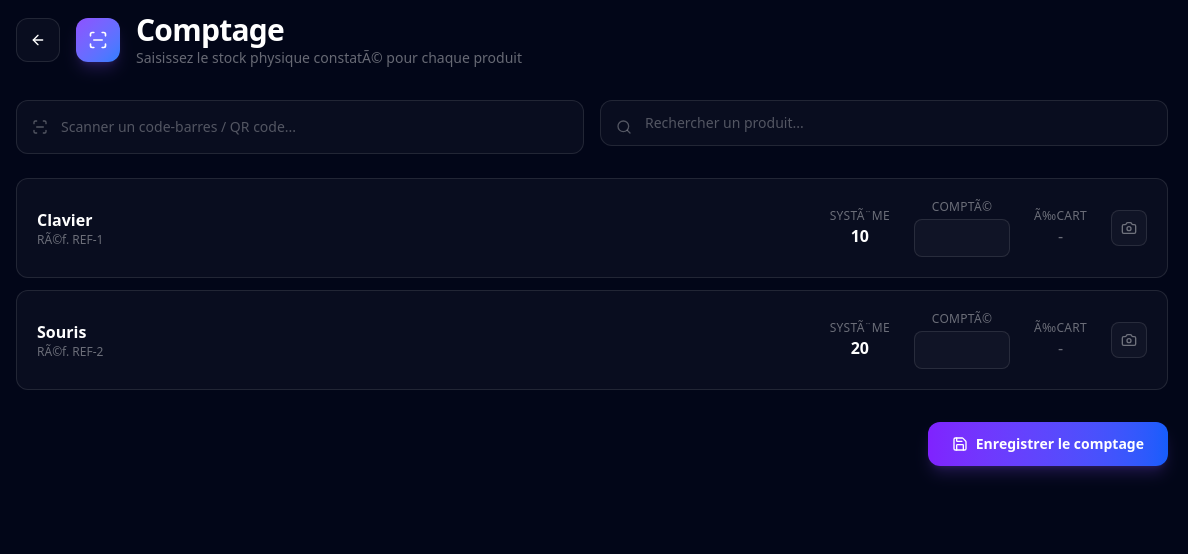
it: Comptage › calcule et affiche l ecart quand une quantite comptee est saisie
Expected: the text "Clavier" is shown, [37, 209, 92, 231]
Type "12" into the number field in the row of "10".
click(962, 238); type("12")  # box [914, 219, 1010, 257]
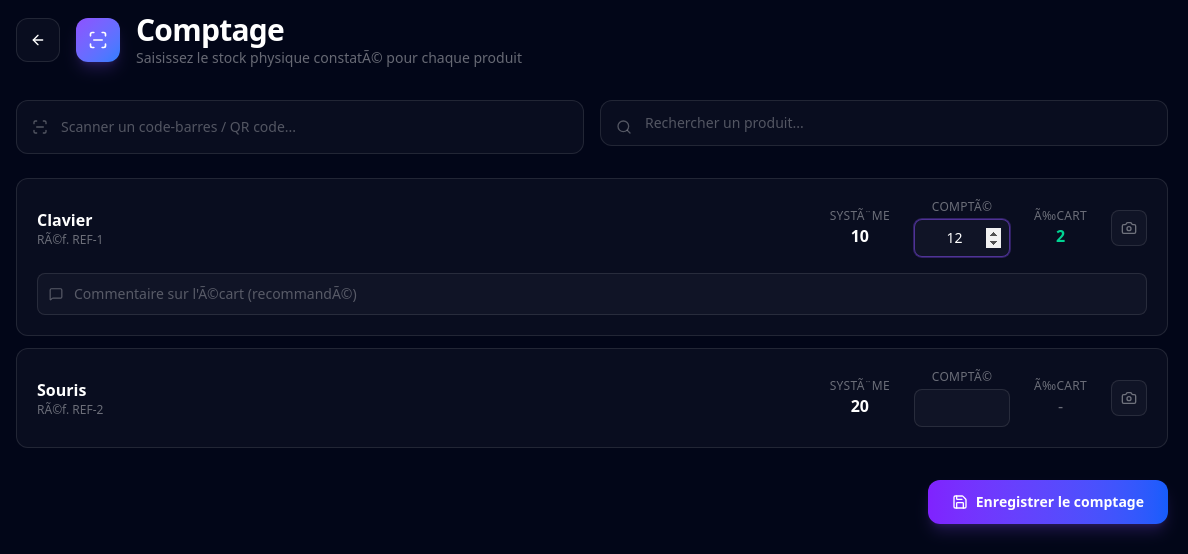
Now the text "2" is shown, box [1056, 225, 1065, 247]
